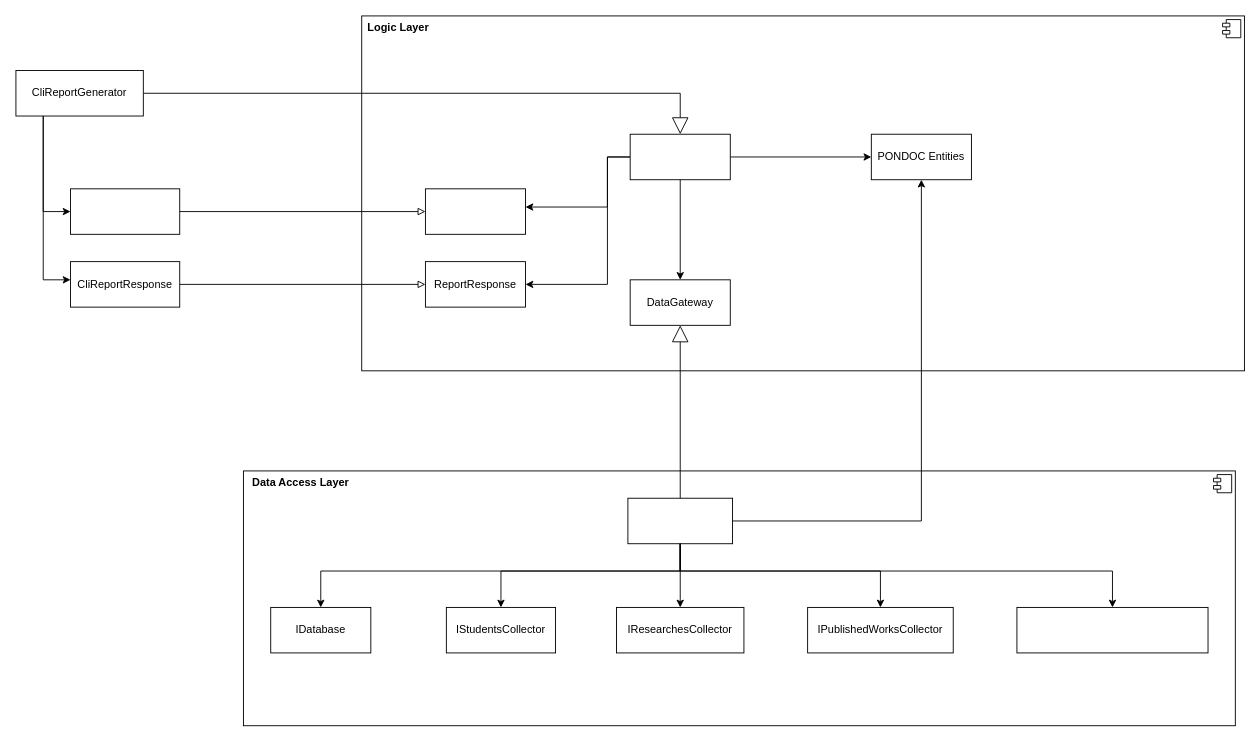
The diagram is 1260 pixels wide and 742 high, and some of its shapes have lost their labels. Each missing label, with the centre of its shape:
"CliReportRequest" goes at point (125, 211).
"DatabaseController" goes at point (680, 520).
"IScientificSerialPublishersCollector" goes at point (1112, 630).
"ReportGenerator" goes at point (679, 156).
"ReportRequest" goes at point (475, 211).
